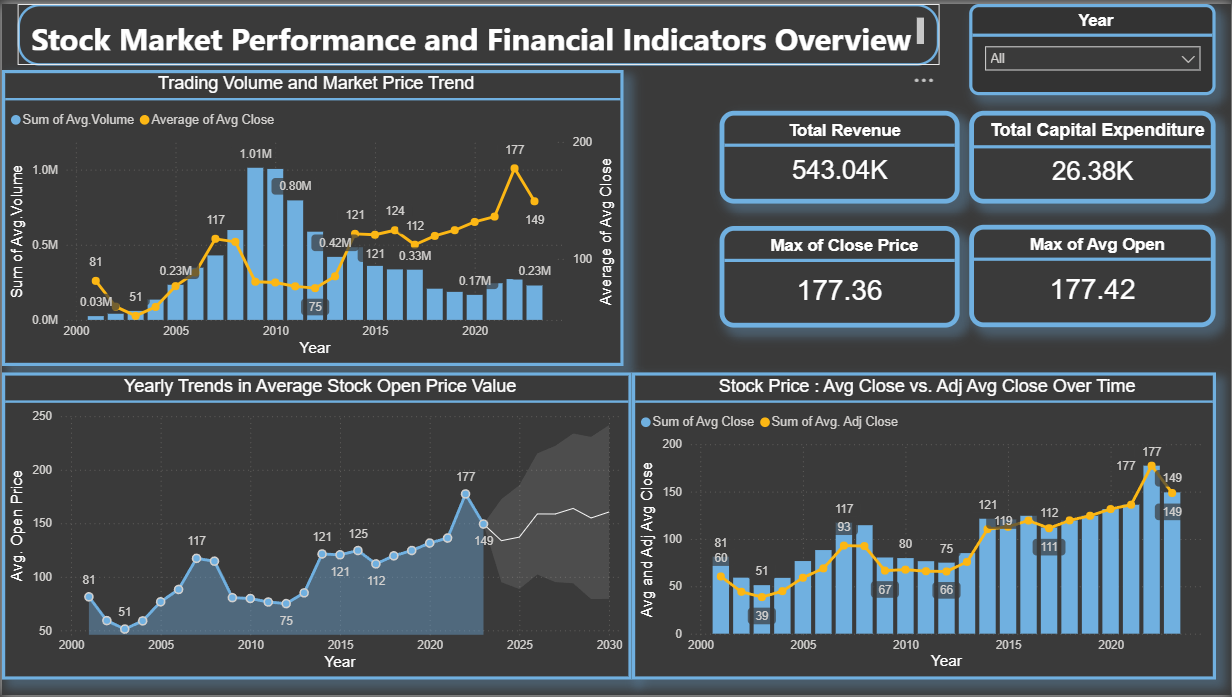

The page's visual inventory and layout, read from the dashboard file:
{"tool":"powerbi","page":{"name":"Economic factors","canvas":[1280,720],"ordinal":0},"visuals":[{"type":"textbox","box":[16,0,960,64],"z":0},{"type":"lineStackedColumnComboChart","title":"Trading Volume and Market Price Trend","fields":{"Category":["Annual Report.Year"],"Y2":["Avg(Annual Report.Avg Close)"],"Y":["Sum(Annual Report.Avg.Volume)"]},"box":[0,68.6,647.7,308.1],"z":1000},{"type":"lineChart","title":"Yearly Trends in Average Stock Open Price Value","fields":{"Category":["Annual Report.Year"],"Y":["Sum(Annual Report.Avg.Open)"]},"box":[0,384,656,320],"z":2000},{"type":"lineStackedColumnComboChart","title":"Stock Price : Avg Close vs. Adj Avg Close Over Time","fields":{"Category":["Annual Report.Year"],"Y":["Sum(Annual Report.Avg Close)"],"Y2":["Sum(Annual Report.Avg. Adj Close)"]},"box":[656,384,608,320],"z":3000},{"type":"card","title":"Max of Close Price","fields":{"Values":["Max(Annual Report.Avg Close)"]},"box":[747.7,231.4,250,105.8],"z":4000},{"type":"card","title":"Total Revenue ","fields":{"Values":["Sum(Annual Report.Revenue (in Billions Yen))"]},"box":[747.7,111.6,250,96.5],"z":5000},{"type":"card","title":"Total Capital Expenditure","fields":{"Values":["Sum(Annual Report.Capital Expenditures (billions Yen))"]},"box":[1007,111.6,257,96.5],"z":6000},{"type":"card","title":"Max of Avg Open","fields":{"Values":["Max(Annual Report.Avg.Open)"]},"box":[1007,230.2,257,107],"z":7000},{"type":"slicer","title":"Year","fields":{"Values":["Annual Report.Year"]},"box":[1007,0,257,95.3],"z":8000}]}

Visuals, with their boxes in screenshot pixels (x1, y1, x2, y2), scaled from the page's 1280x720 canvas onto the 1232x697 screenshot:
textbox: <region>15, 0, 939, 62</region>
"Trading Volume and Market Price Trend" lineStackedColumnComboChart: <region>0, 66, 623, 365</region>
"Yearly Trends in Average Stock Open Price Value" lineChart: <region>0, 372, 631, 682</region>
"Stock Price : Avg Close vs. Adj Avg Close Over Time" lineStackedColumnComboChart: <region>631, 372, 1217, 682</region>
"Max of Close Price" card: <region>720, 224, 960, 326</region>
"Total Revenue " card: <region>720, 108, 960, 201</region>
"Total Capital Expenditure" card: <region>969, 108, 1217, 201</region>
"Max of Avg Open" card: <region>969, 223, 1217, 326</region>
"Year" slicer: <region>969, 0, 1217, 92</region>
